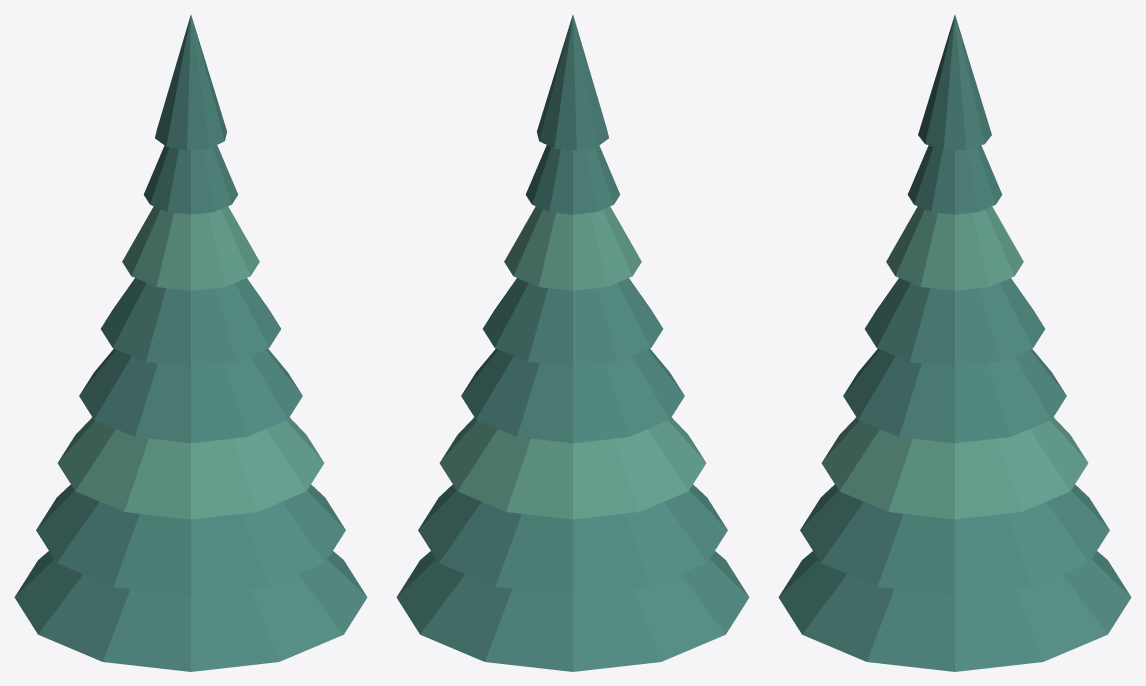
Rendered from tree_spruce.glb.
The picture shows the model from 3 angles, left to right: view 1: azimuth 30°, elevation 25°; view 2: azimuth 150°, elevation 25°; view 3: azimuth 270°, elevation 25°; orthographic projection.
Parts seen in each view (by area): view 1: Spruce_Needle_Tier_00, Spruce_Needle_Tier_01, Spruce_Needle_Tier_02, Spruce_Needle_Tier_03, Spruce_Needle_Tier_04, Spruce_Needle_Tier_05, Spruce_Point, Spruce_Needle_Tier_06; view 2: Spruce_Needle_Tier_00, Spruce_Needle_Tier_01, Spruce_Needle_Tier_02, Spruce_Needle_Tier_03, Spruce_Needle_Tier_04, Spruce_Needle_Tier_05, Spruce_Point, Spruce_Needle_Tier_06; view 3: Spruce_Needle_Tier_00, Spruce_Needle_Tier_01, Spruce_Needle_Tier_02, Spruce_Needle_Tier_03, Spruce_Needle_Tier_04, Spruce_Needle_Tier_05, Spruce_Point, Spruce_Needle_Tier_06.
Part boxes in pixels (left/top/right/bottom): Spruce_Needle_Tier_00: left=14, top=551, right=367, bottom=671; Spruce_Needle_Tier_01: left=36, top=484, right=345, bottom=595; Spruce_Needle_Tier_02: left=57, top=417, right=324, bottom=519; Spruce_Needle_Tier_03: left=79, top=348, right=302, bottom=443; Spruce_Needle_Tier_04: left=101, top=278, right=280, bottom=366; Spruce_Needle_Tier_05: left=122, top=206, right=259, bottom=290; Spruce_Point: left=155, top=15, right=226, bottom=150; Spruce_Needle_Tier_06: left=143, top=145, right=238, bottom=214; Spruce_Needle_Tier_00: left=396, top=551, right=749, bottom=671; Spruce_Needle_Tier_01: left=418, top=484, right=727, bottom=595; Spruce_Needle_Tier_02: left=439, top=417, right=706, bottom=519; Spruce_Needle_Tier_03: left=461, top=348, right=684, bottom=443; Spruce_Needle_Tier_04: left=483, top=278, right=662, bottom=366; Spruce_Needle_Tier_05: left=504, top=206, right=641, bottom=290; Spruce_Point: left=537, top=15, right=608, bottom=150; Spruce_Needle_Tier_06: left=525, top=145, right=620, bottom=214; Spruce_Needle_Tier_00: left=778, top=551, right=1131, bottom=671; Spruce_Needle_Tier_01: left=800, top=484, right=1109, bottom=595; Spruce_Needle_Tier_02: left=821, top=417, right=1088, bottom=519; Spruce_Needle_Tier_03: left=843, top=348, right=1066, bottom=443; Spruce_Needle_Tier_04: left=865, top=278, right=1044, bottom=366; Spruce_Needle_Tier_05: left=886, top=206, right=1023, bottom=290; Spruce_Point: left=918, top=15, right=991, bottom=149; Spruce_Needle_Tier_06: left=907, top=145, right=1002, bottom=214.
Bounding box in the file's own units: 4.1 × 8.08 × 4.1.
